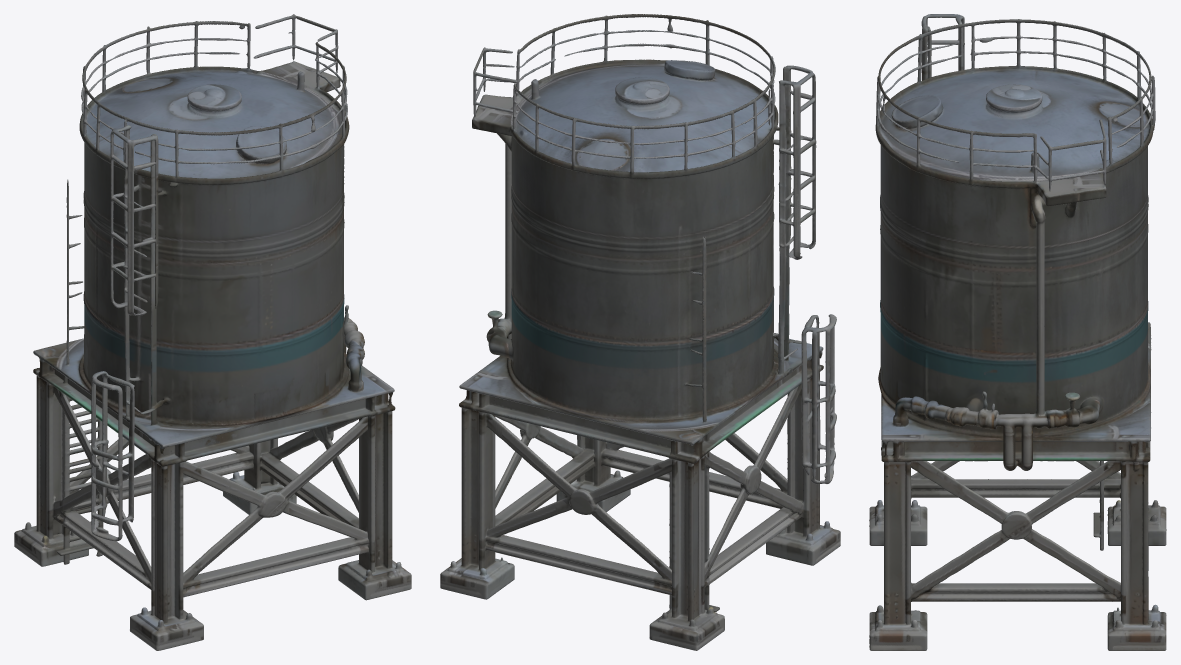
Rendered from industrial_rooftop_water_storage_tank.glb.
3 views of the same model, side by side, from view 1: azimuth 30°, elevation 25°; view 2: azimuth 150°, elevation 25°; view 3: azimuth 270°, elevation 25° (orthographic). The views are drawn at different scales.
Visible parts, largest first — view 1: tripo_node_8d00d638-45e4-4a42-b984-ff9f19ecd406; view 2: tripo_node_8d00d638-45e4-4a42-b984-ff9f19ecd406; view 3: tripo_node_8d00d638-45e4-4a42-b984-ff9f19ecd406.
Part boxes in pixels (x1=…): tripo_node_8d00d638-45e4-4a42-b984-ff9f19ecd406: x1=14, y1=14, x2=411, y2=650; tripo_node_8d00d638-45e4-4a42-b984-ff9f19ecd406: x1=440, y1=14, x2=840, y2=650; tripo_node_8d00d638-45e4-4a42-b984-ff9f19ecd406: x1=869, y1=14, x2=1166, y2=650.
Size of the model in its own units: 0.6298 by 1 by 0.5265.
Materials: 1 (1 with a texture image).
